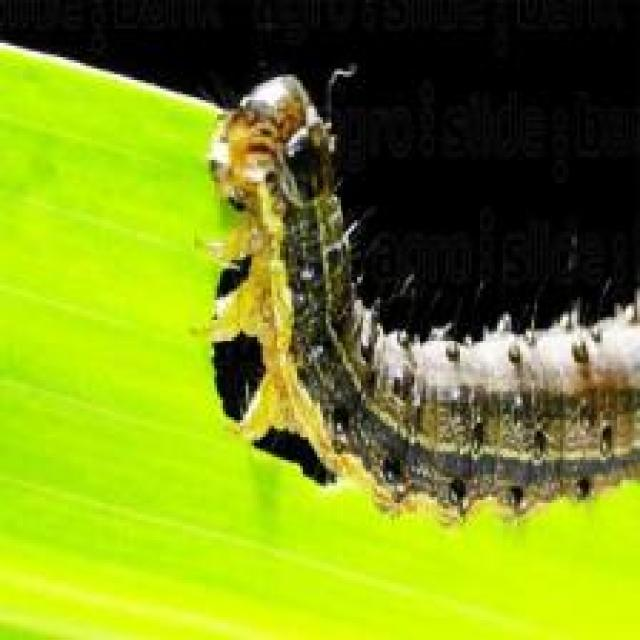Plaga: (192, 61, 640, 550)
